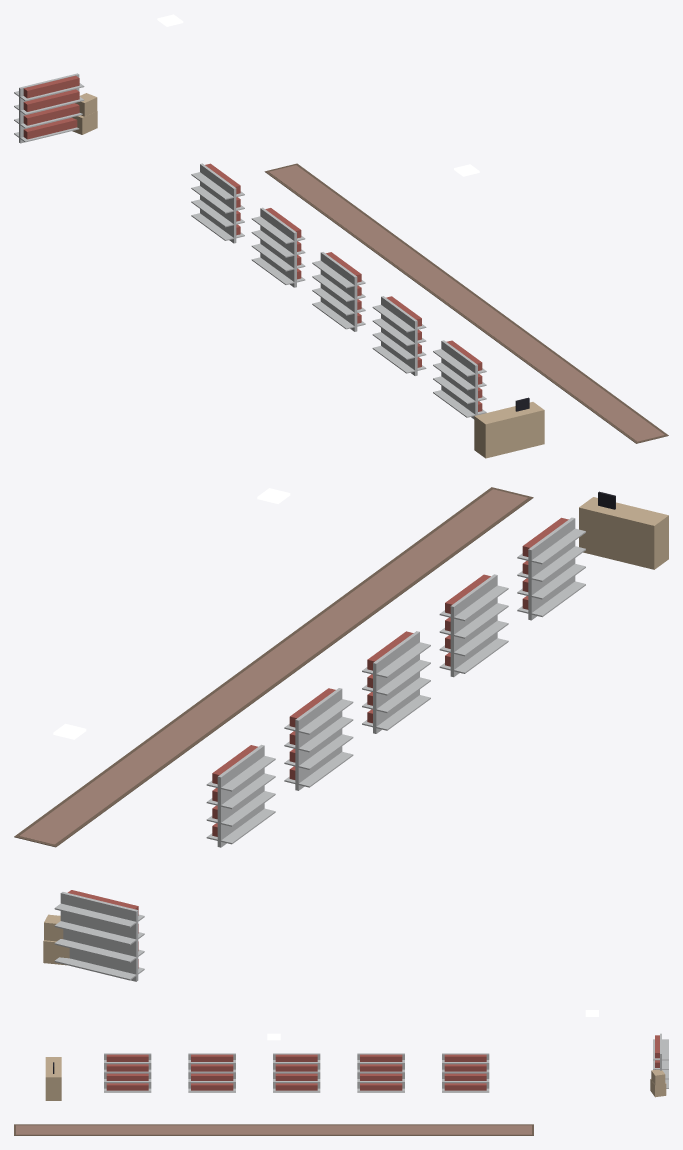
File: fine-s0.glb
3 renders of one model, top to bottom at view 1: azimuth 30°, elevation 25°; view 2: azimuth 150°, elevation 25°; view 3: azimuth 270°, elevation 25°, orthographic. The views are drawn at different scales.
Visible parts, largest first — view 1: soft-s0, shelving.000, shop-counter.000, shelf.001, shelf.002, shelf.004, shelf.000, shelf.003, cardboard-box.000; view 2: soft-s0, shelving.000, shop-counter.000, shelf.001, shelf.004, shelf.000, shelf.003, shelf.002, cardboard-box.000; view 3: soft-s0, shelf.000, shelf.001, shelf.002, shelf.003, shelf.004, shop-counter.000, shelving.000, cardboard-box.000.
Boxes of the visible parts, x1=… form: soft-s0: x1=264, y1=163, x2=668, y2=443; shelving.000: x1=14, y1=73, x2=84, y2=143; shop-counter.000: x1=474, y1=397, x2=544, y2=458; shelf.001: x1=251, y1=207, x2=305, y2=287; shelf.002: x1=312, y1=252, x2=365, y2=331; shelf.004: x1=433, y1=340, x2=486, y2=419; shelf.000: x1=191, y1=163, x2=244, y2=243; shelf.003: x1=372, y1=296, x2=426, y2=375; cardboard-box.000: x1=72, y1=93, x2=97, y2=134; soft-s0: x1=14, y1=487, x2=533, y2=847; shelving.000: x1=54, y1=890, x2=144, y2=981; shop-counter.000: x1=579, y1=491, x2=668, y2=569; shelf.001: x1=284, y1=688, x2=353, y2=790; shelf.004: x1=517, y1=517, x2=585, y2=620; shelf.000: x1=206, y1=744, x2=275, y2=847; shelf.003: x1=439, y1=574, x2=508, y2=677; shelf.002: x1=362, y1=631, x2=430, y2=733; cardboard-box.000: x1=43, y1=914, x2=69, y2=965; soft-s0: x1=14, y1=1124, x2=533, y2=1135; shelf.000: x1=442, y1=1053, x2=489, y2=1092; shelf.001: x1=357, y1=1053, x2=404, y2=1092; shelf.002: x1=273, y1=1053, x2=320, y2=1092; shelf.003: x1=188, y1=1053, x2=235, y2=1092; shelf.004: x1=104, y1=1053, x2=151, y2=1092; shop-counter.000: x1=45, y1=1057, x2=61, y2=1100; shelving.000: x1=653, y1=1033, x2=668, y2=1088; cardboard-box.000: x1=650, y1=1069, x2=666, y2=1097.
Size of the model in its own units: 5.71 by 3.92 by 24.8.
